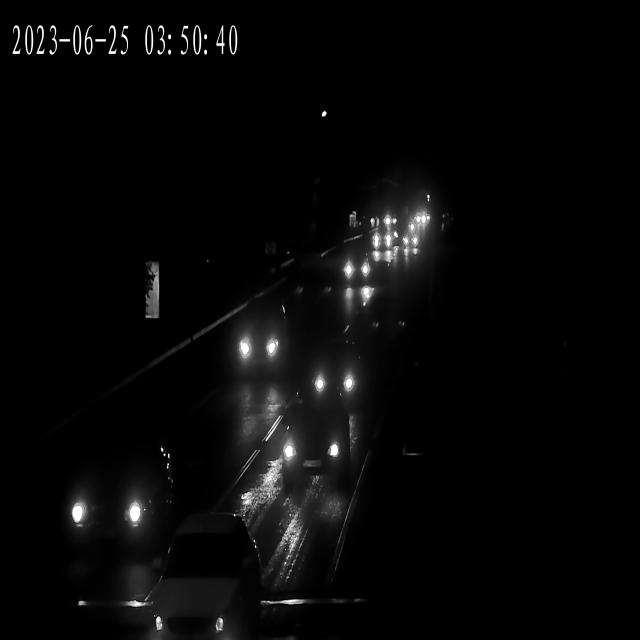Car: (61, 441, 176, 555), (149, 526, 261, 640), (284, 403, 352, 476), (228, 306, 291, 375), (307, 347, 367, 405), (338, 252, 376, 284), (368, 226, 392, 251), (370, 230, 394, 252), (396, 230, 419, 251), (401, 232, 422, 252), (397, 235, 418, 255), (402, 218, 423, 234), (407, 215, 426, 230), (410, 213, 430, 227), (413, 212, 432, 226), (380, 214, 398, 228)
